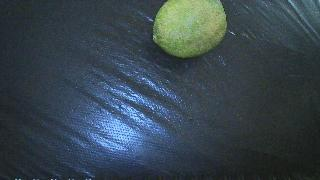DESECHO: (153, 0, 227, 58)
